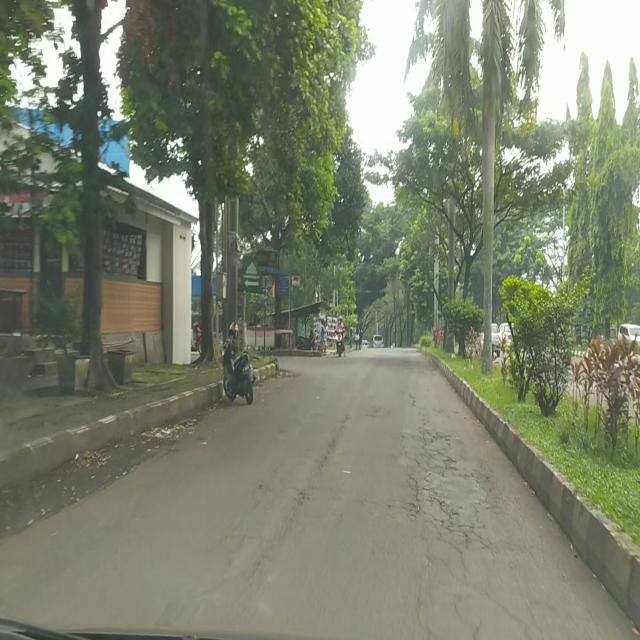Drain Hole: (400, 412, 497, 549)
